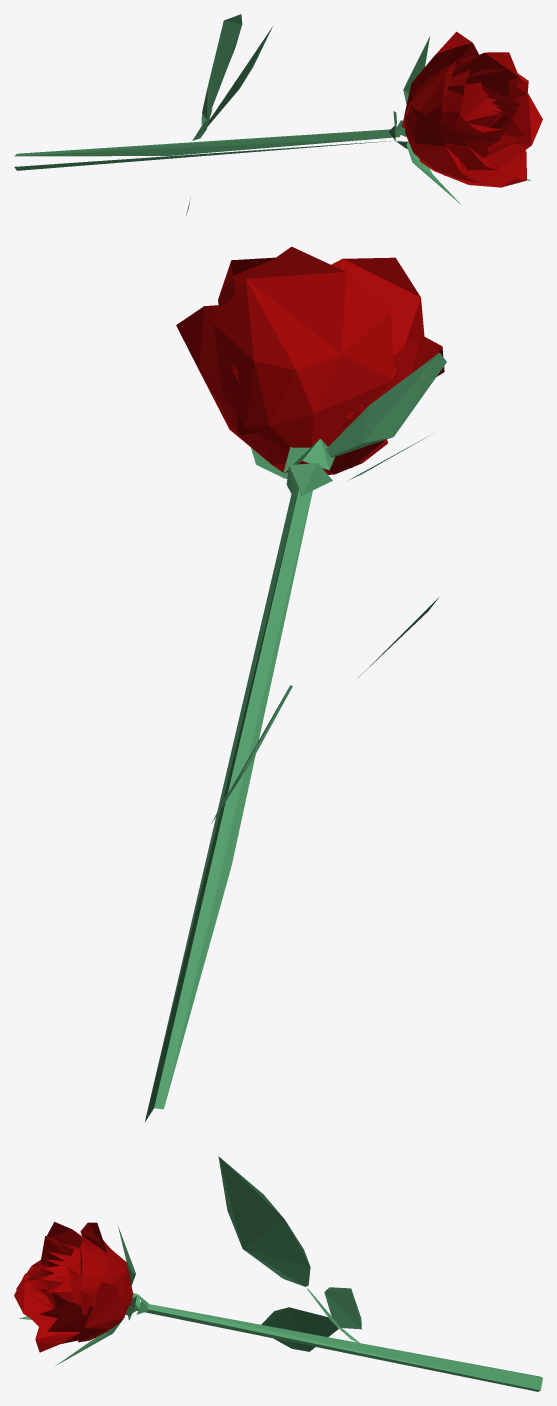
File: rose.glb
3 views of the same model, one above another, from view 1: azimuth 30°, elevation 25°; view 2: azimuth 150°, elevation 25°; view 3: azimuth 270°, elevation 25° (orthographic). The views are drawn at different scales.
Parts seen in each view (by area): view 1: Object003; view 2: Object003; view 3: Object003.
Boxes of the visible parts, x1,y1,x2,y2 form: Object003: (14,14,542,215); Object003: (144,246,446,1122); Object003: (14,1156,542,1391).
Bounding box in the file's own units: 2.43 × 2.56 × 5.05.
